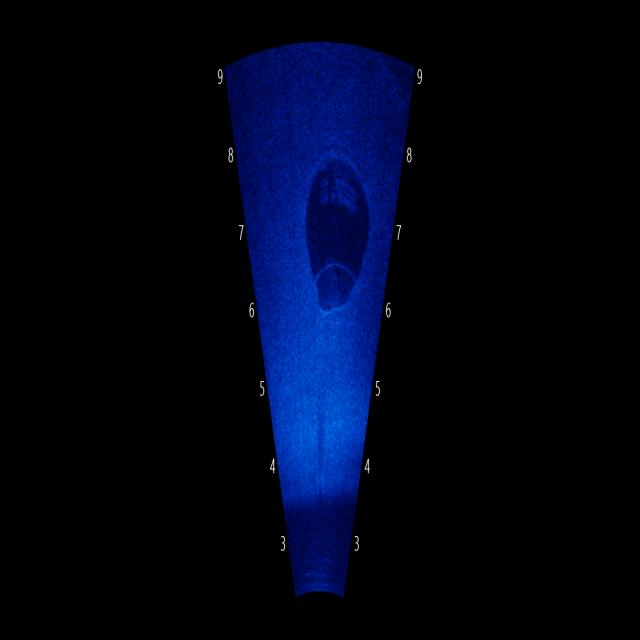circle: (293, 135, 376, 318)
